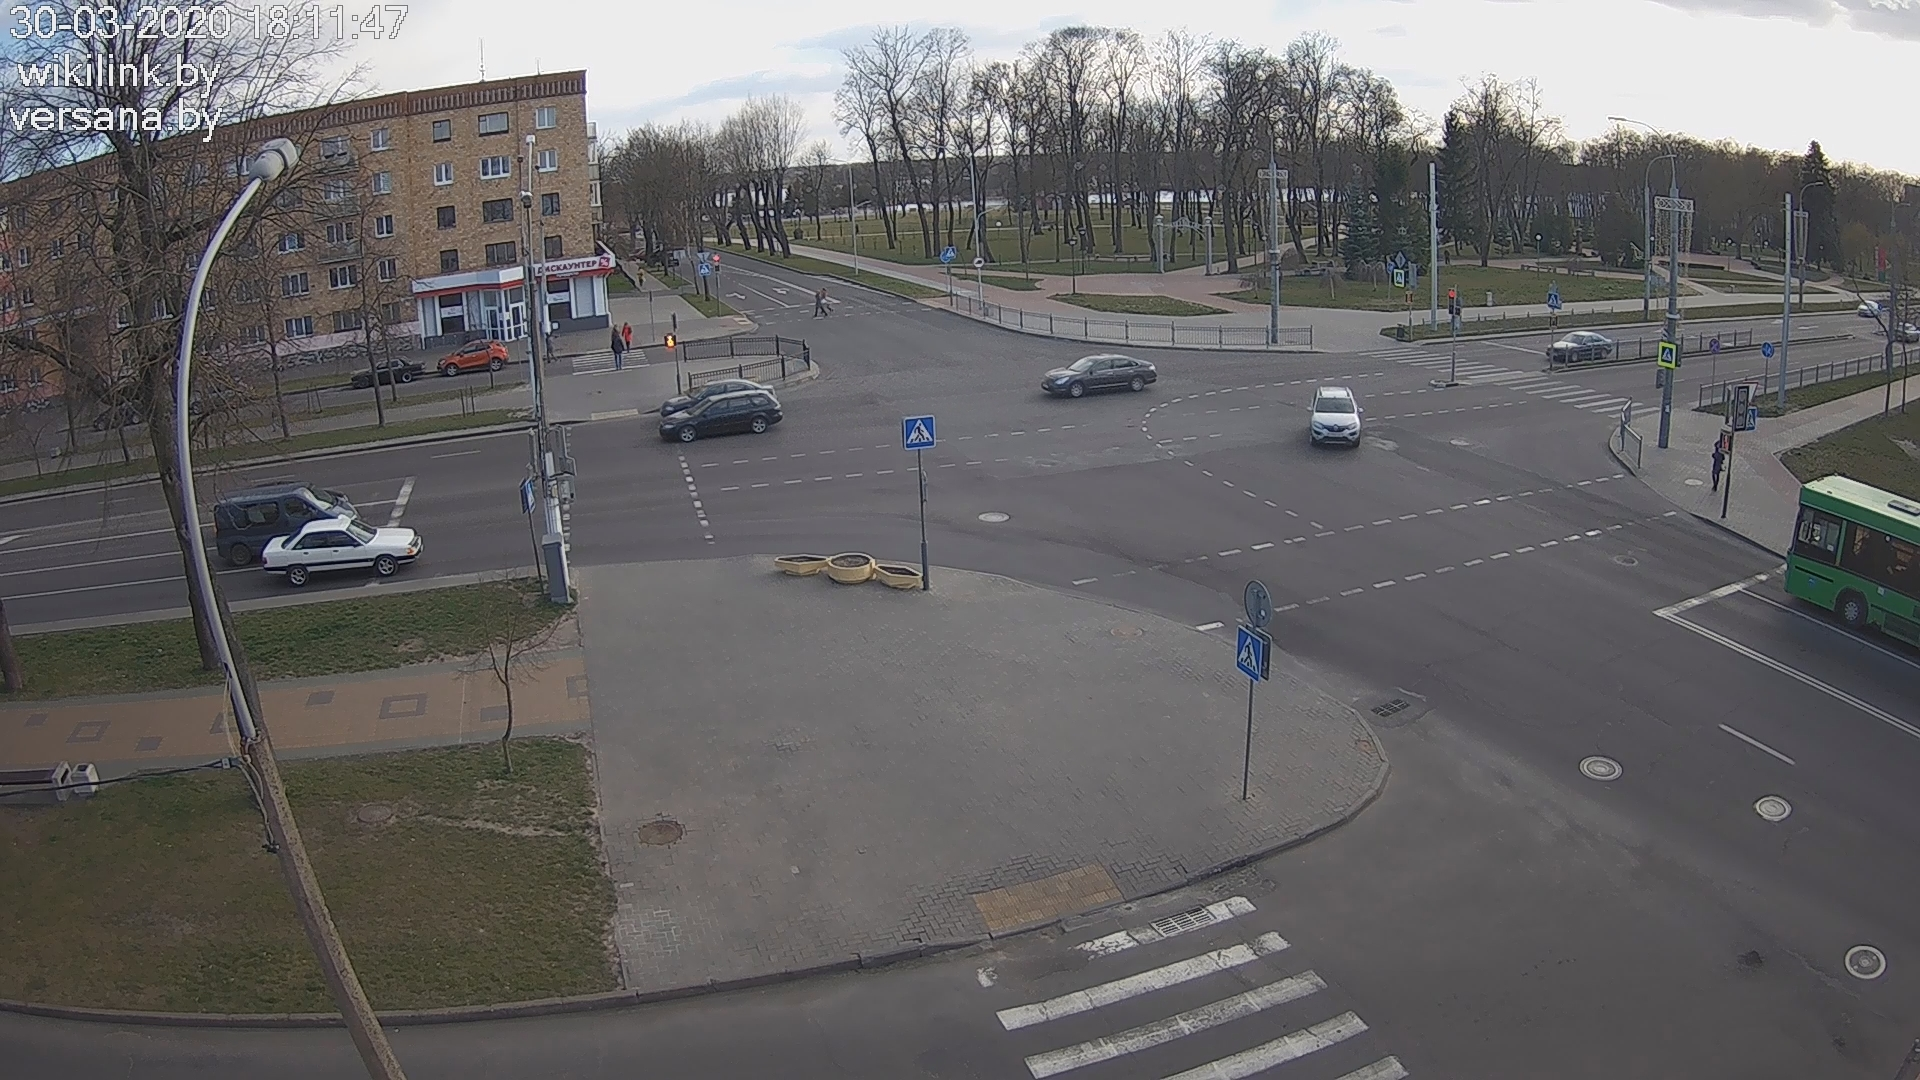car: (214, 483, 363, 566), (262, 518, 423, 585), (659, 390, 783, 443), (1040, 353, 1158, 400), (659, 380, 777, 415), (1307, 385, 1364, 446), (436, 339, 510, 376), (351, 355, 427, 389), (1545, 331, 1614, 361)
